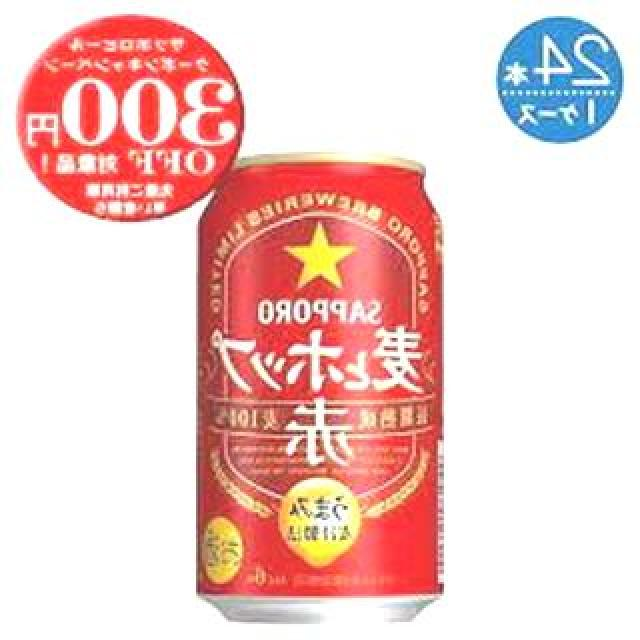Can: (190, 145, 450, 629)
